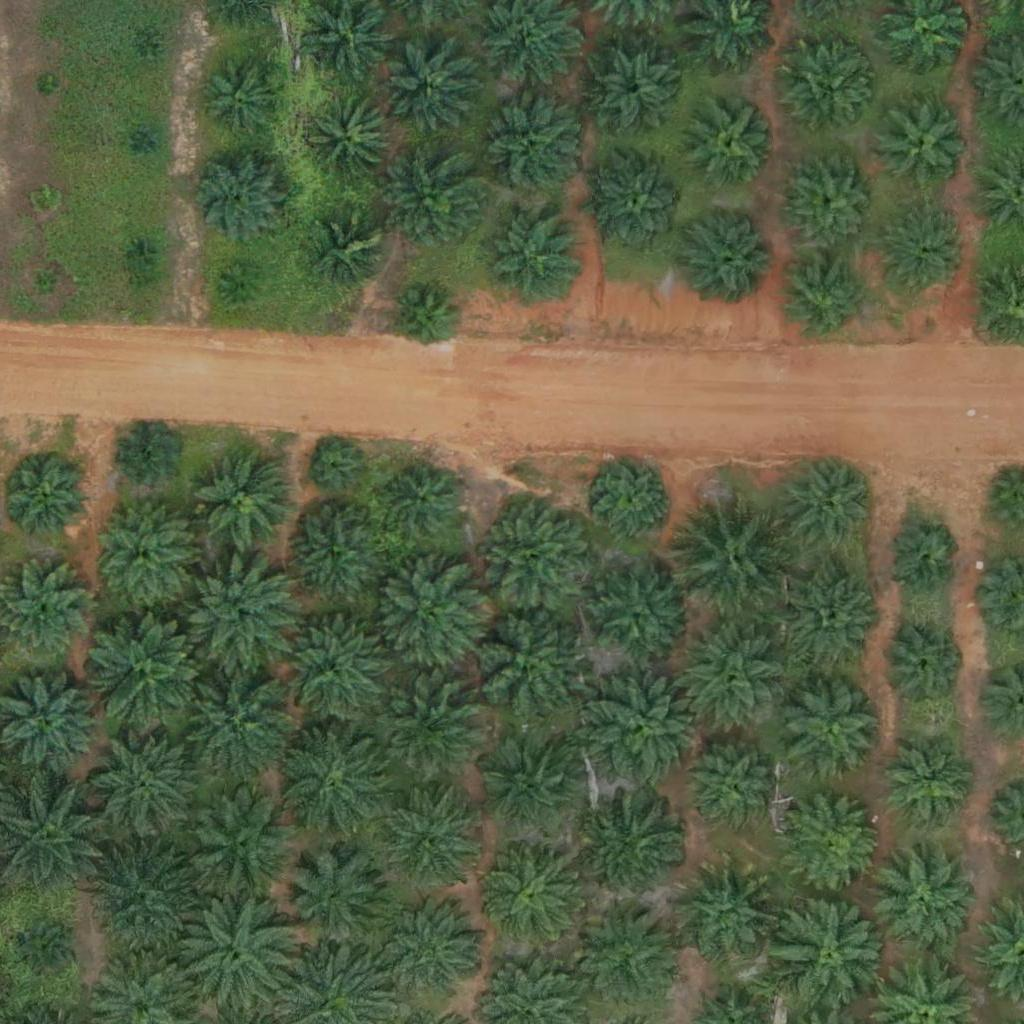Kelapa_Sawit: (86, 608, 211, 734), (82, 837, 207, 963), (169, 657, 294, 783), (179, 888, 304, 1014), (274, 719, 399, 845), (474, 492, 599, 618), (462, 603, 587, 729), (582, 667, 707, 793), (673, 493, 798, 619), (669, 616, 794, 742), (771, 892, 896, 1018), (270, 611, 395, 736), (183, 557, 296, 670), (184, 789, 297, 902), (279, 845, 392, 958), (378, 899, 491, 1012), (183, 142, 295, 255), (85, 726, 197, 839), (372, 560, 484, 673), (373, 672, 485, 785), (384, 151, 484, 252), (478, 96, 578, 197), (483, 206, 583, 307), (94, 503, 194, 604), (194, 451, 294, 552), (283, 505, 383, 606), (482, 739, 582, 840), (483, 840, 583, 941), (590, 795, 690, 896), (578, 900, 678, 1001), (681, 863, 781, 964), (589, 155, 689, 255), (681, 206, 781, 306), (783, 152, 883, 252), (588, 564, 688, 664), (778, 456, 878, 556), (782, 572, 882, 672), (782, 679, 882, 779), (784, 796, 884, 896), (875, 852, 975, 952), (201, 53, 289, 142), (586, 47, 674, 135), (307, 97, 395, 185), (880, 102, 968, 190), (882, 208, 970, 296), (4, 456, 92, 544), (385, 795, 473, 883), (884, 742, 972, 830), (879, 621, 966, 709), (786, 48, 873, 136), (387, 49, 474, 137), (689, 98, 776, 186), (783, 255, 870, 343), (690, 746, 777, 834), (595, 461, 670, 537), (883, 521, 958, 597), (314, 215, 389, 290), (386, 464, 461, 539), (393, 288, 456, 351), (15, 923, 78, 986), (116, 426, 179, 489), (311, 443, 361, 493), (223, 264, 261, 302), (133, 40, 158, 65), (35, 75, 60, 100), (31, 187, 56, 212), (34, 271, 59, 296), (134, 129, 159, 154), (127, 239, 152, 264)
